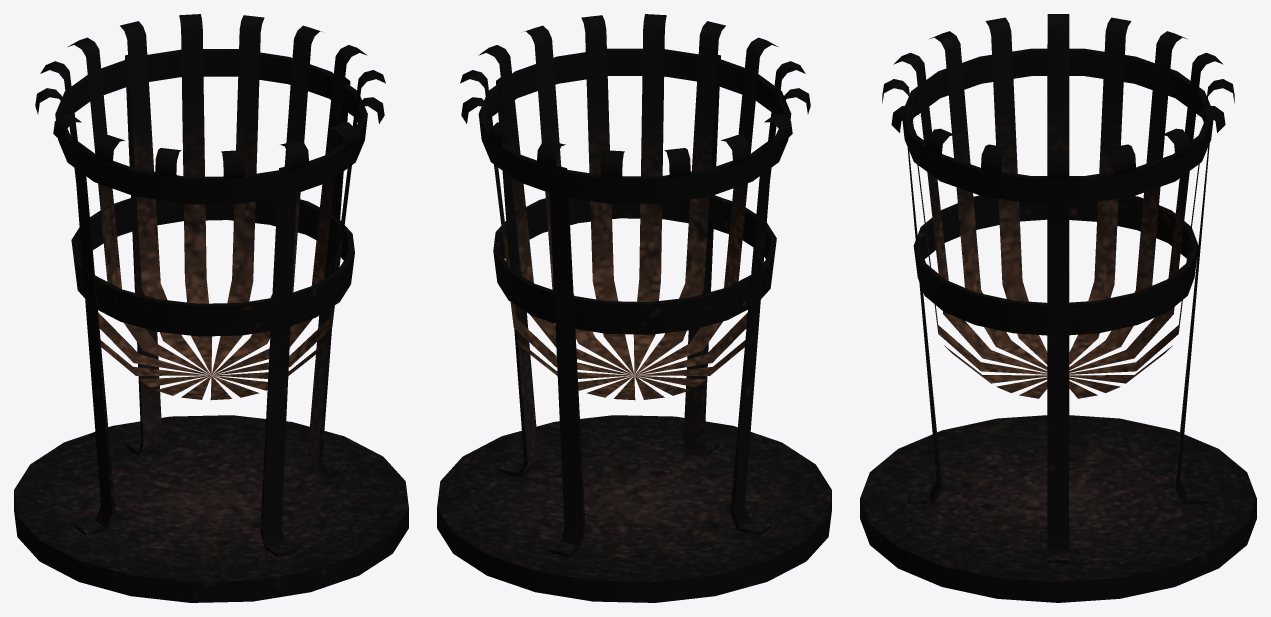
Rendered from WinterFellBraizer.FBX.
The picture shows the model from 3 angles, left to right: view 1: azimuth 30°, elevation 25°; view 2: azimuth 150°, elevation 25°; view 3: azimuth 270°, elevation 25°; orthographic projection.
Visible parts, largest first — view 1: Braizer001; view 2: Braizer001; view 3: Braizer001.
Boxes of the visible parts, x1,y1,x2,y2 form: Braizer001: (14, 14, 408, 602); Braizer001: (437, 14, 831, 602); Braizer001: (860, 14, 1256, 602).
Size of the model in its own units: 68.2 by 82.62 by 68.2.
